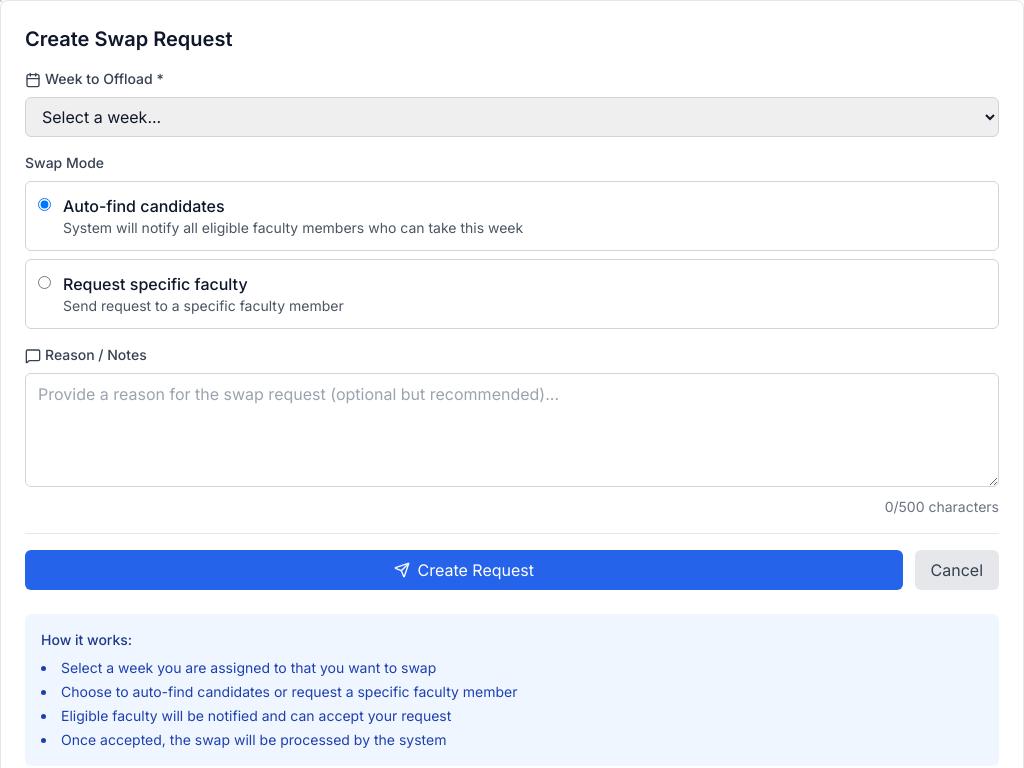
Test: SwapRequestForm › Swap Mode Selection › should show target faculty field when specific mode is selected
Click the 2nd radio button. click: (44, 282)
box: [38, 276, 51, 289]
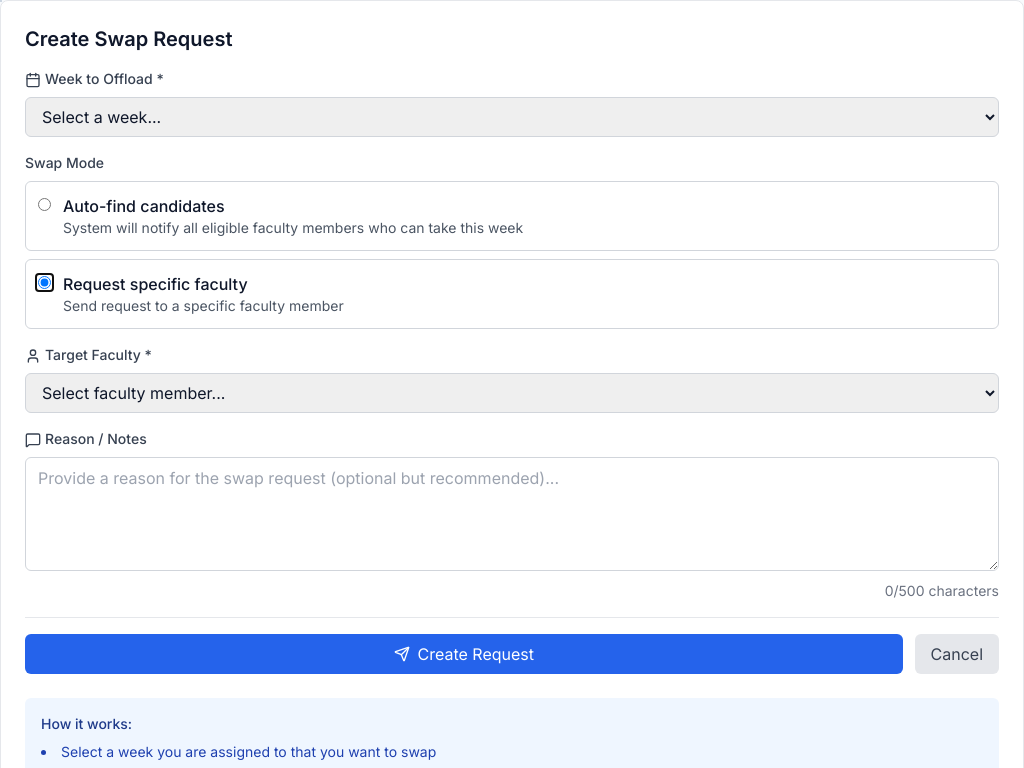
Check: the dropdown below "Target Faculty *" is shown, box [25, 373, 999, 413]
